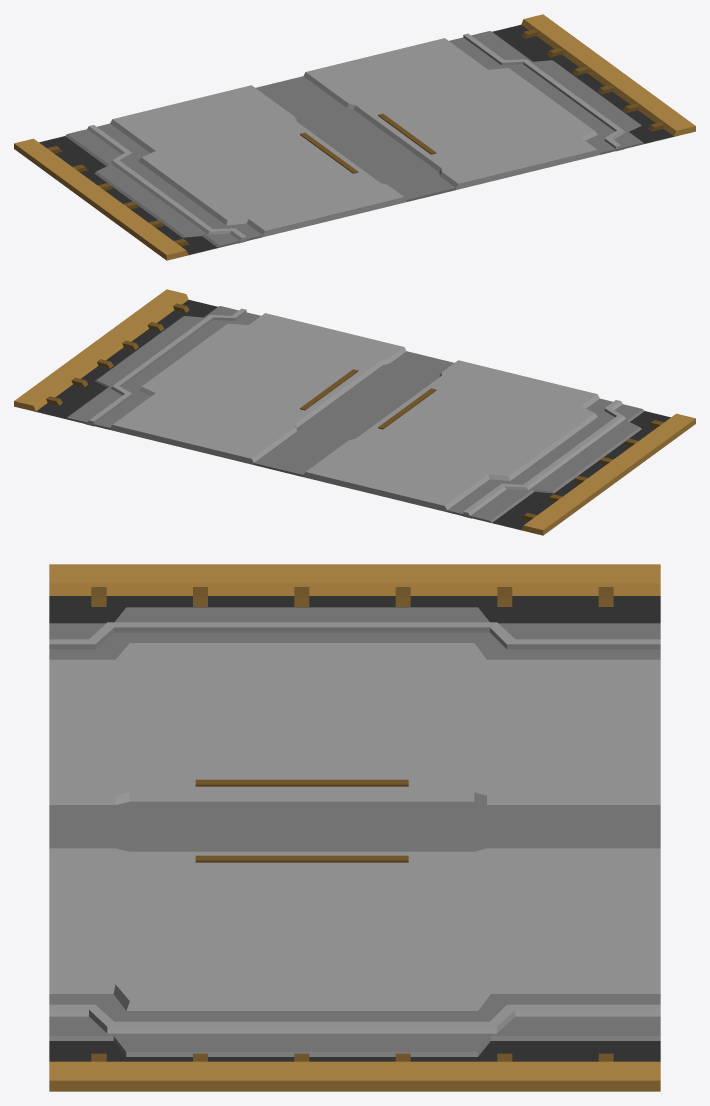
Rendered from FloorTile_Double_Hallway.glb.
3 renders of one model, top to bottom at view 1: azimuth 30°, elevation 25°; view 2: azimuth 150°, elevation 25°; view 3: azimuth 270°, elevation 25°, orthographic. The views are drawn at different scales.
Parts seen in each view (by area): view 1: FloorTile_Double_Hallway; view 2: FloorTile_Double_Hallway; view 3: FloorTile_Double_Hallway.
Boxes of the visible parts, left/top/right/bottom form: FloorTile_Double_Hallway: left=14, top=14, right=695, bottom=260; FloorTile_Double_Hallway: left=14, top=289, right=695, bottom=535; FloorTile_Double_Hallway: left=49, top=564, right=660, bottom=1091.
Bounding box in the file's own units: 1.36 × 0.0233 × 0.68.
